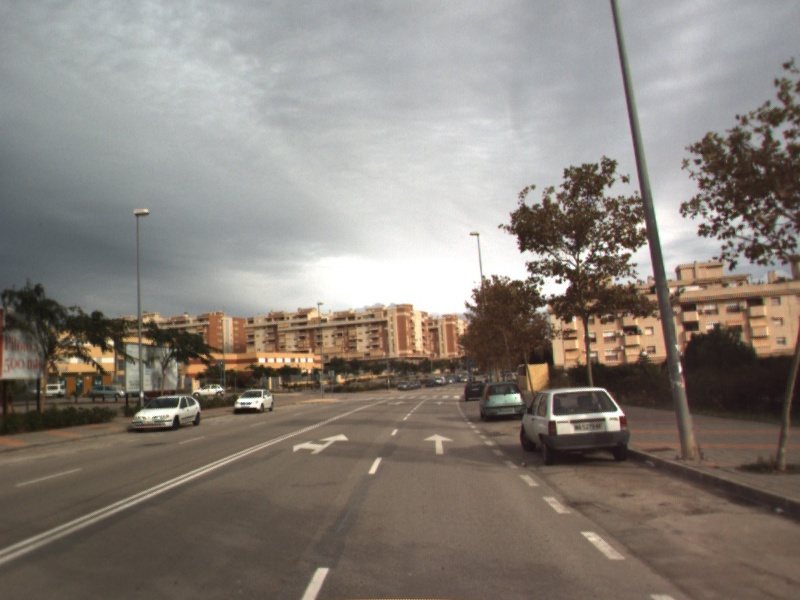STRAIGHT: (421, 431, 456, 456)
STRAIGHT_LEFT: (291, 431, 351, 456)
